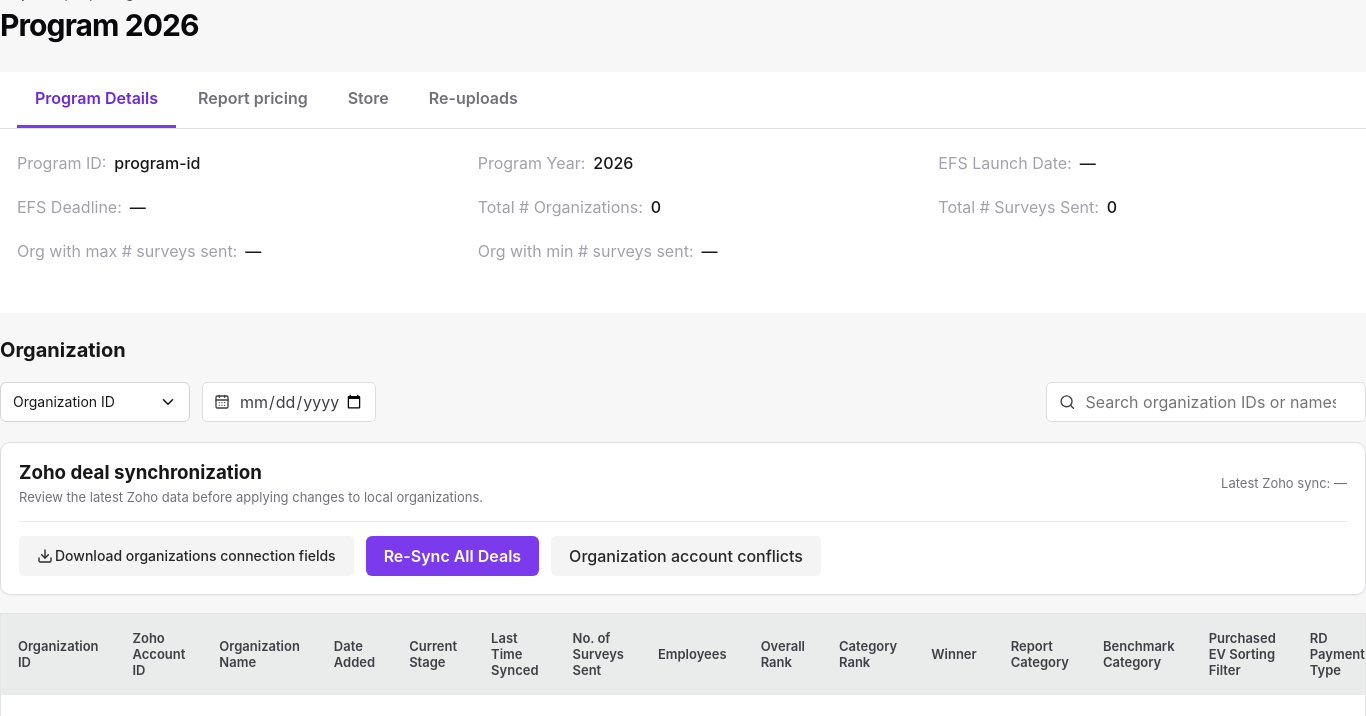
Test case: program Zoho resync changes › opens the conflict report automatically when resync finds account conflicts
Click the button "Re-Sync All Deals": [452, 556] box [366,536,539,576]
(page scrolled)
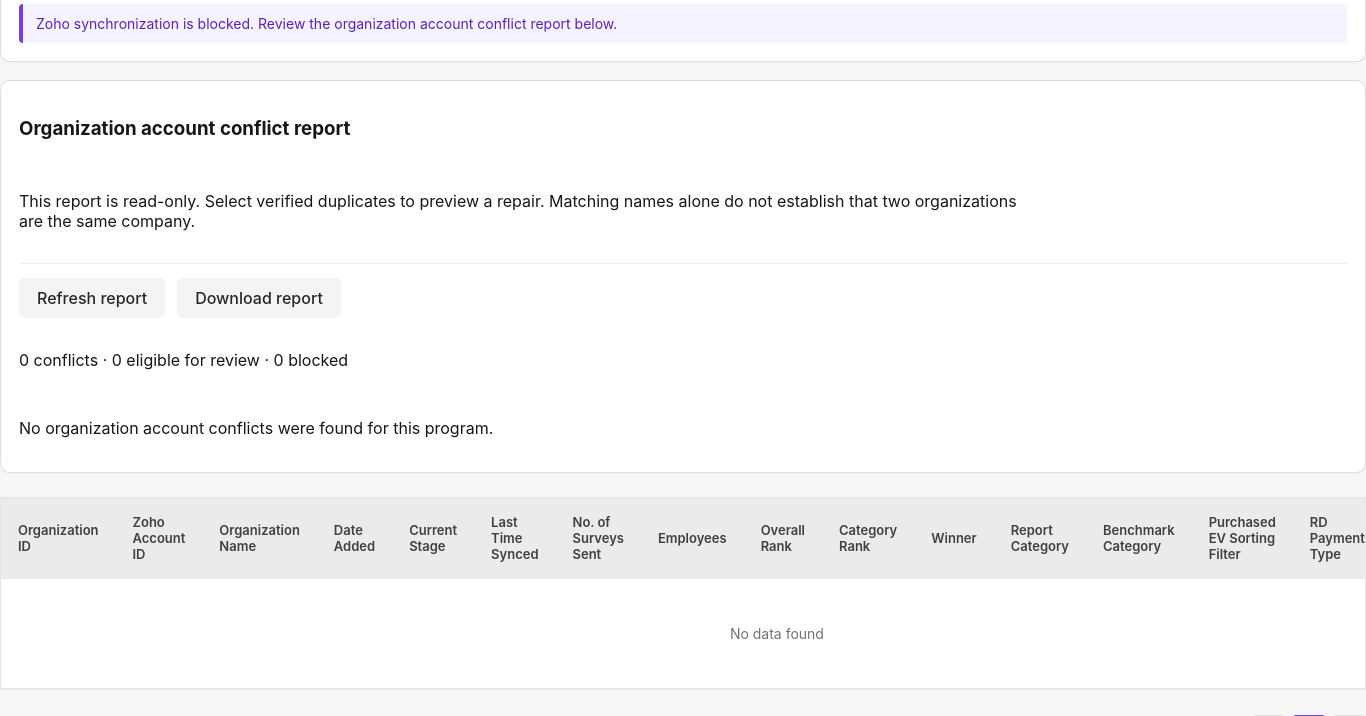
Expected: the element "Organization account conflict report" is shown, [0,80,1365,473]
Expected: the text "No organization account conflicts were found for this program." is shown, [19,418,493,438]
